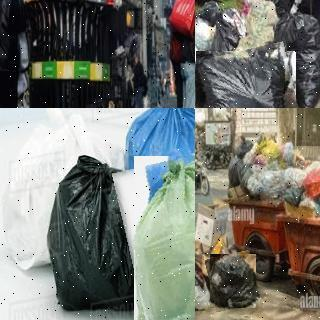Garbage: (49, 154, 160, 315), (1, 108, 108, 267), (123, 150, 195, 320), (124, 108, 195, 221), (195, 46, 300, 108), (272, 13, 320, 108), (208, 252, 259, 310), (207, 16, 242, 64), (195, 37, 210, 88), (301, 165, 320, 196)
